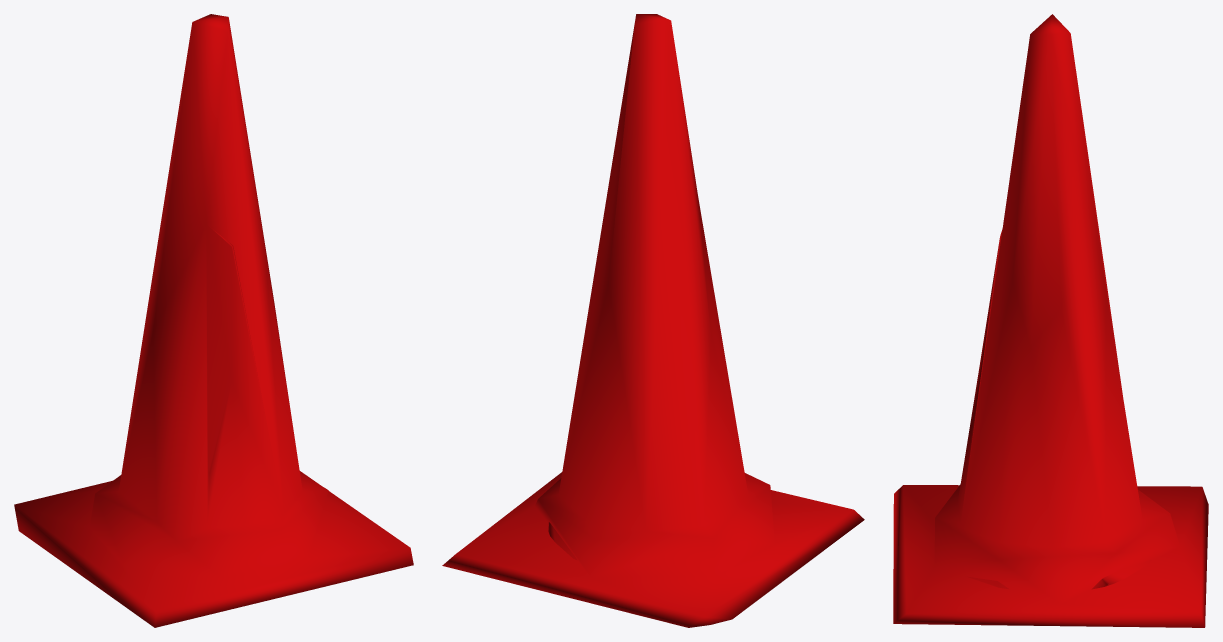
The model's file is traffic_cone.obj.
3 renders of one model, left to right at view 1: azimuth 30°, elevation 25°; view 2: azimuth 150°, elevation 25°; view 3: azimuth 270°, elevation 25°, orthographic. The views are drawn at different scales.
Visible parts, largest first — view 1: body; view 2: body; view 3: body.
Part boxes in pixels (box(x1,y1,x2,y2)): body: box(14, 14, 413, 627); body: box(442, 14, 864, 627); body: box(893, 14, 1208, 627).
Size of the model in its own units: 0.432 by 0.8004 by 0.4257.
